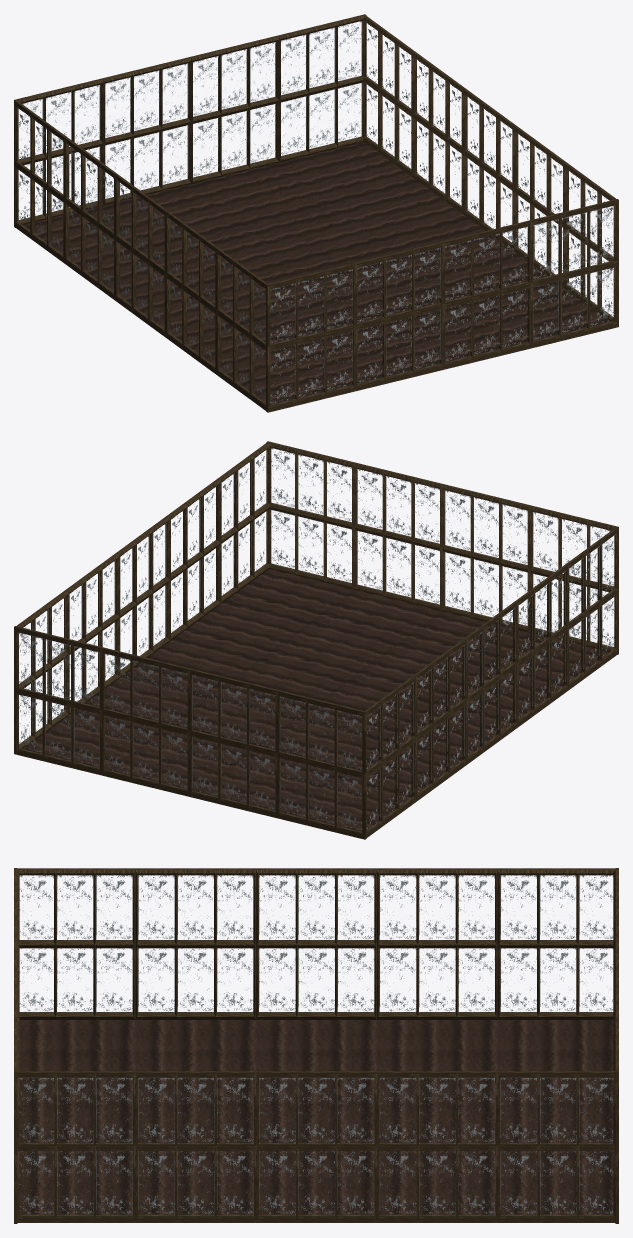
Rendered from invernadero.fbx.
3 views of the same model, one above another, from view 1: azimuth 30°, elevation 25°; view 2: azimuth 150°, elevation 25°; view 3: azimuth 270°, elevation 25° (orthographic). The views are drawn at different scales.
Visible parts, largest first — view 1: suelo, pared2, pared4, pared1, pared3; view 2: suelo, pared4, pared2, pared1, pared3; view 3: suelo, pared3, pared1, pared2, pared4.
Part boxes in pixels (x1,y1,x2,y2): suelo: (24,142,609,404); pared2: (266,199,618,412); pared4: (14,14,366,227); pared1: (14,100,270,411); pared3: (361,16,616,321); suelo: (23,569,608,831); pared4: (14,626,366,839); pared2: (266,441,618,654); pared1: (362,527,618,838); pared3: (16,443,271,748); suelo: (18,1020,614,1222); pared3: (17,1071,615,1222); pared1: (17,868,615,1019); pared2: (14,868,19,1223); pared4: (613,868,618,1223).
Bounding box in the file's own units: 2405 × 832 × 3008.
Materials: 2 (2 with a texture image).
